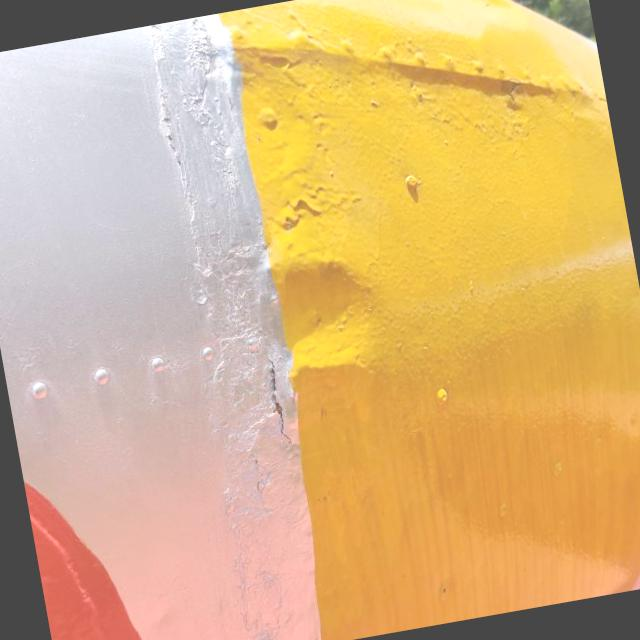dent: (209, 199, 433, 428)
